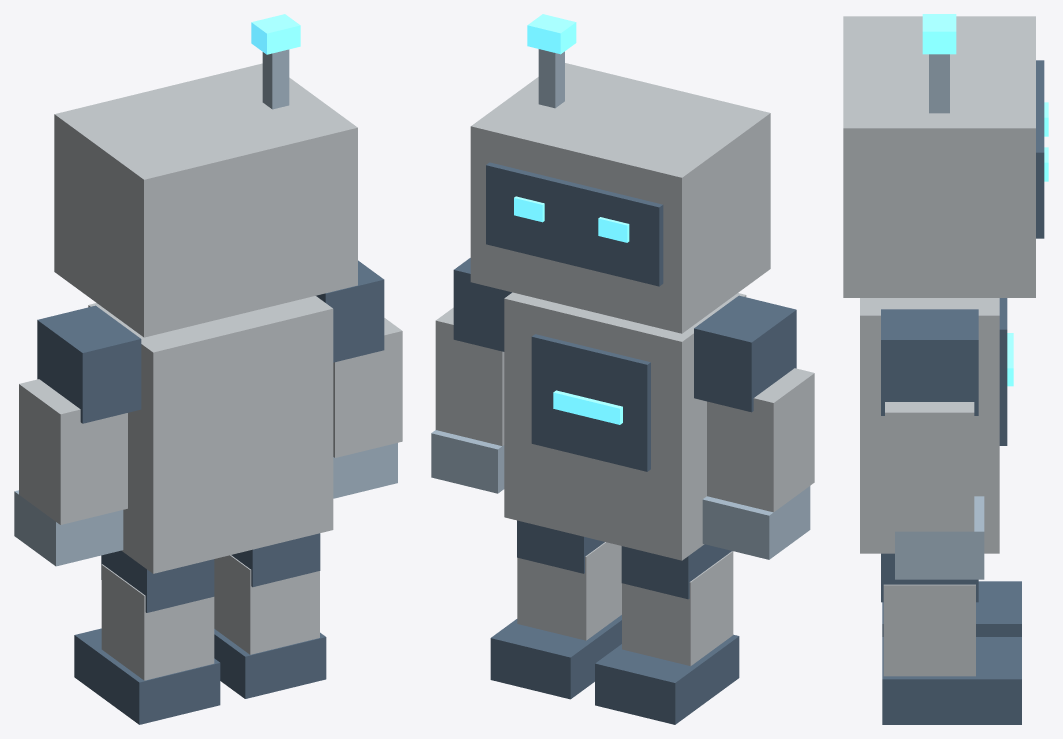
The model's file is explorer.glb.
The picture shows the model from 3 angles, left to right: view 1: azimuth 30°, elevation 25°; view 2: azimuth 150°, elevation 25°; view 3: azimuth 270°, elevation 25°; orthographic projection. The views are drawn at different scales.
Visible parts, largest first — view 1: head, body, arm--1, shoulder--1, leg--1, leg-1, arm-1, foot--1, foot-1, hand--1, shoulder-1, hip--1 (+4 smaller); view 2: head, body, visor, chest-panel, arm--1, shoulder--1, leg--1, foot--1, leg-1, arm-1, foot-1, hand--1 (+9 smaller); view 3: head, body, arm-1, shoulder-1, foot-1, leg-1, hand-1, foot--1, visor, antenna-light, chest-panel, antenna (+2 smaller).
Part boxes in pixels (box(x1,y1,x2,y2)): head: box(54, 63, 357, 337); body: box(88, 296, 333, 573); arm--1: box(19, 379, 127, 524); shoulder--1: box(37, 305, 141, 423); leg--1: box(101, 564, 214, 680); leg-1: box(214, 555, 319, 654); arm-1: box(333, 318, 402, 457); foot--1: box(74, 628, 220, 724); foot-1: box(214, 629, 326, 698); hand--1: box(14, 490, 123, 566); shoulder-1: box(316, 260, 384, 362); hip--1: box(101, 550, 214, 612); head: box(470, 63, 770, 333); body: box(504, 292, 746, 560); visor: box(486, 162, 663, 286); chest-panel: box(531, 334, 650, 471); arm--1: box(707, 368, 814, 512); shoulder--1: box(694, 295, 796, 412); leg--1: box(622, 551, 733, 666); foot--1: box(595, 634, 739, 724); leg-1: box(517, 542, 621, 640); arm-1: box(435, 307, 504, 446); foot-1: box(490, 615, 621, 699); hand--1: box(702, 486, 810, 559); head: box(843, 16, 1035, 297); body: box(860, 298, 999, 553); arm-1: box(885, 402, 974, 531); shoulder-1: box(881, 309, 978, 415); foot-1: box(882, 637, 1021, 724); leg-1: box(883, 584, 975, 676); hand-1: box(895, 496, 984, 579); foot--1: box(882, 581, 1021, 636); visor: box(1036, 60, 1044, 238); antenna-light: box(922, 14, 956, 54); chest-panel: box(999, 298, 1007, 445); antenna: box(929, 54, 949, 113).
Size of the model in its own units: 1.52 by 2.73 by 0.736.
